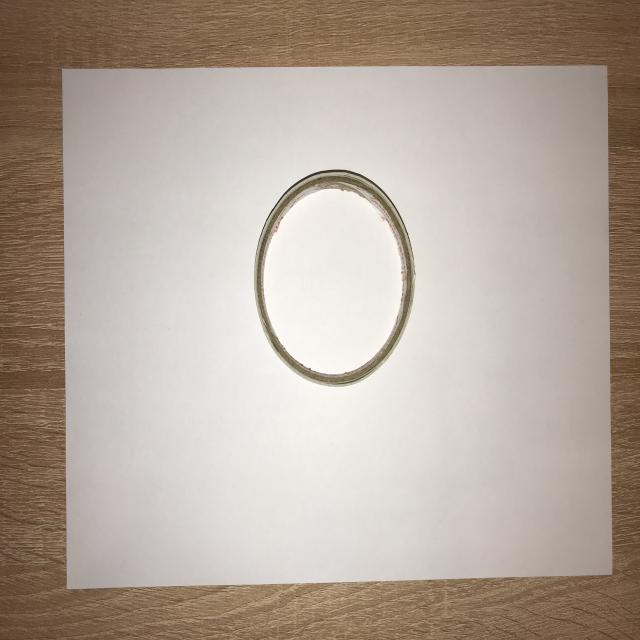scotch: (247, 163, 419, 392)
